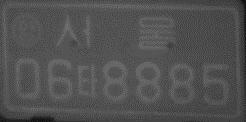0: (15, 58, 40, 100)
5: (201, 63, 231, 106)
6: (47, 59, 73, 102)
8: (135, 61, 163, 104), (101, 60, 127, 103), (170, 63, 194, 105)
서울_D: (53, 14, 177, 50)
영: (10, 13, 43, 52)
타: (77, 64, 98, 98)
